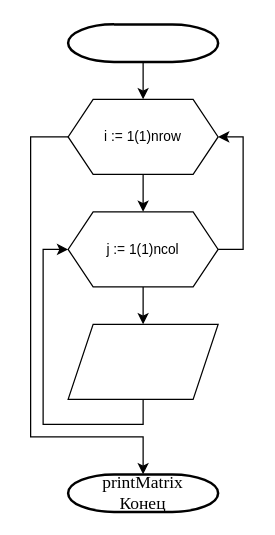
The diagram is 275 pixels wide and 535 high, and some of its shapes have lost their labels. The shapes that lost their labels are listed below. From the top down, each one's box as (x1, y1, x2, y2) in pixels, then its label:
(66, 22, 219, 62): printMatrix(a) Начало
(67, 323, 218, 399): Вывод a[i][j]
